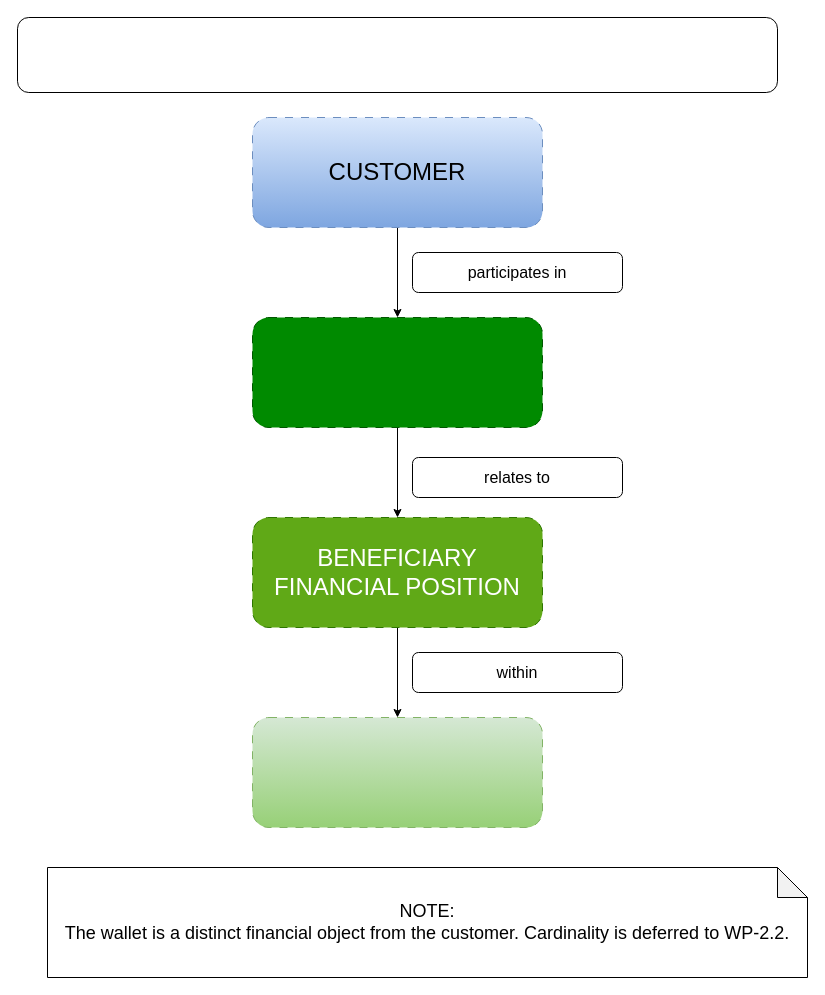
Some shapes in this 825 by 995 pixel diagram are drawn without their labels. Each missing label, with the box of its shape:
OMAN REMIT: (252, 716, 542, 828)
REMITTANCE: (252, 316, 542, 428)
REMITTANCE RELATIONSHIPS: (16, 16, 778, 92)
